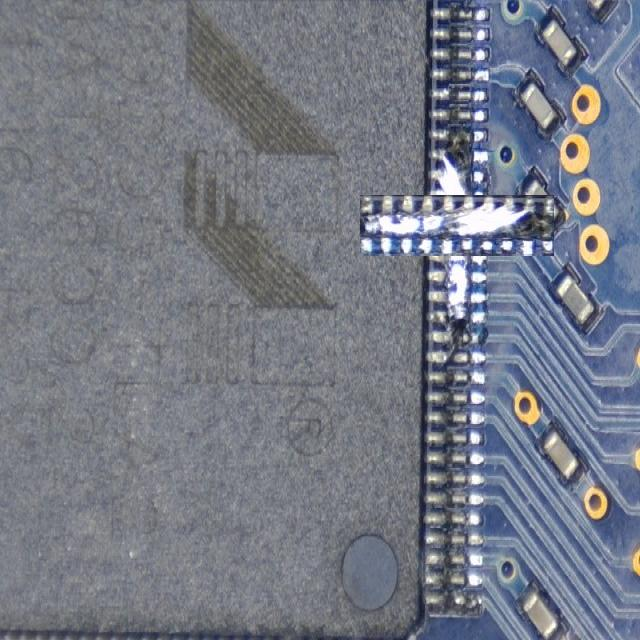Short_circuit: (360, 196, 554, 255)
